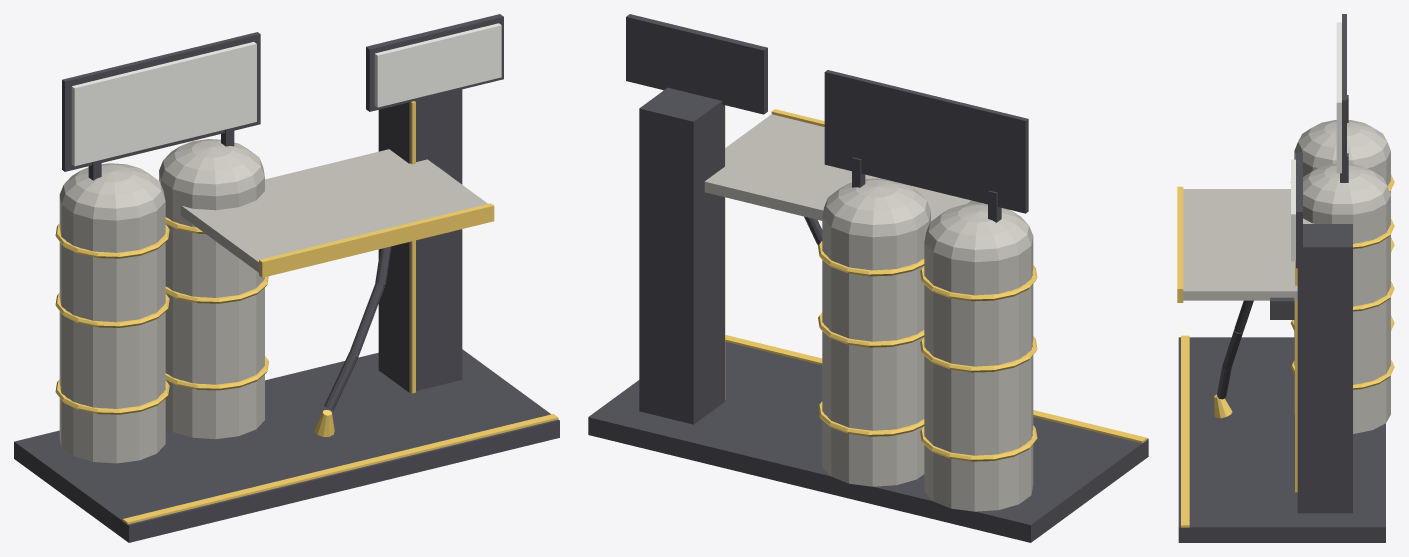
The model's file is fuel_station.fbx.
3 views of the same model, side by side, from view 1: azimuth 30°, elevation 25°; view 2: azimuth 150°, elevation 25°; view 3: azimuth 270°, elevation 25° (orthographic). The views are drawn at different scales.
Visible parts, largest first — view 1: Tanks__Station_Light, Pad__Station_Dark, Canopy__Station_Light, Tower__Station_Dark, BillboardFace__Station_Sign, SignPanel__Station_Sign, CanopyTrim__Station_Accent, TankHoops__Station_Accent, BillboardFrame__Station_Dark, PadStripe__Station_Accent, SignFrame__Station_Dark, Hose__Station_Dark (+1 smaller); view 2: Tanks__Station_Light, Pad__Station_Dark, Tower__Station_Dark, BillboardFrame__Station_Dark, Canopy__Station_Light, SignFrame__Station_Dark, TankHoops__Station_Accent, PadStripe__Station_Accent; view 3: Pad__Station_Dark, Tower__Station_Dark, Tanks__Station_Light, Canopy__Station_Light, PadStripe__Station_Accent, TankHoops__Station_Accent, Hose__Station_Dark, BillboardFace__Station_Sign, BillboardFrame__Station_Dark, SignFrame__Station_Dark, CanopyTrim__Station_Accent, TowerTube__Station_Accent (+3 smaller).
Boxes of the visible parts, bbox=[...] form: Tanks__Station_Light: bbox=[59, 139, 264, 463]; Pad__Station_Dark: bbox=[14, 349, 559, 542]; Canopy__Station_Light: bbox=[181, 149, 487, 274]; Tower__Station_Dark: bbox=[378, 89, 462, 392]; BillboardFace__Station_Sign: bbox=[71, 42, 256, 166]; SignPanel__Station_Sign: bbox=[374, 23, 501, 107]; CanopyTrim__Station_Accent: bbox=[259, 203, 494, 277]; TankHoops__Station_Accent: bbox=[55, 217, 268, 414]; BillboardFrame__Station_Dark: bbox=[62, 32, 260, 171]; PadStripe__Station_Accent: bbox=[122, 414, 558, 524]; SignFrame__Station_Dark: bbox=[366, 14, 503, 111]; Hose__Station_Dark: bbox=[324, 246, 391, 410]; Tanks__Station_Light: bbox=[822, 178, 1033, 511]; Pad__Station_Dark: bbox=[588, 342, 1148, 542]; Tower__Station_Dark: bbox=[639, 87, 724, 424]; BillboardFrame__Station_Dark: bbox=[824, 70, 1028, 213]; Canopy__Station_Light: bbox=[704, 114, 981, 221]; SignFrame__Station_Dark: bbox=[626, 14, 767, 114]; TankHoops__Station_Accent: bbox=[818, 241, 1037, 461]; PadStripe__Station_Accent: bbox=[725, 335, 1147, 443]; Pad__Station_Dark: bbox=[1178, 337, 1385, 542]; Tower__Station_Dark: bbox=[1297, 224, 1352, 513]; Tanks__Station_Light: bbox=[1294, 120, 1390, 433]; Canopy__Station_Light: bbox=[1182, 189, 1314, 300]; PadStripe__Station_Accent: bbox=[1181, 335, 1189, 527]; TankHoops__Station_Accent: bbox=[1290, 175, 1394, 389]; Hose__Station_Dark: bbox=[1217, 300, 1253, 399]; BillboardFace__Station_Sign: bbox=[1336, 22, 1341, 173]; BillboardFrame__Station_Dark: bbox=[1342, 14, 1346, 181]; SignFrame__Station_Dark: bbox=[1296, 152, 1302, 268]; CanopyTrim__Station_Accent: bbox=[1177, 186, 1183, 302]; TowerTube__Station_Accent: bbox=[1295, 261, 1297, 492].
Size of the model in its own units: 2655 by 2240 by 1258.
